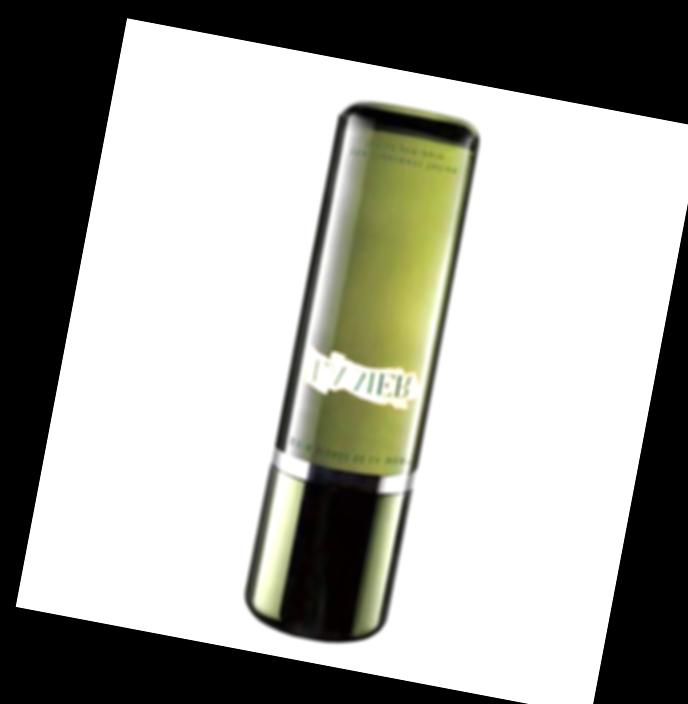cosmetic: (241, 98, 490, 647)
